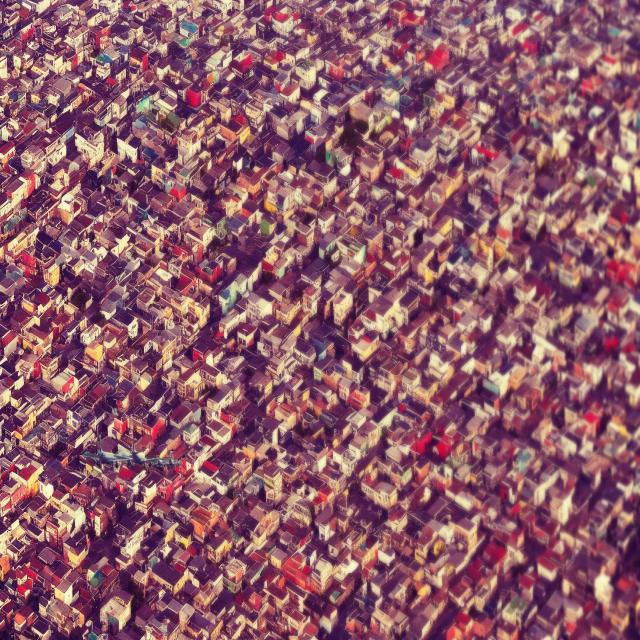airplane: (84, 434, 184, 473)
